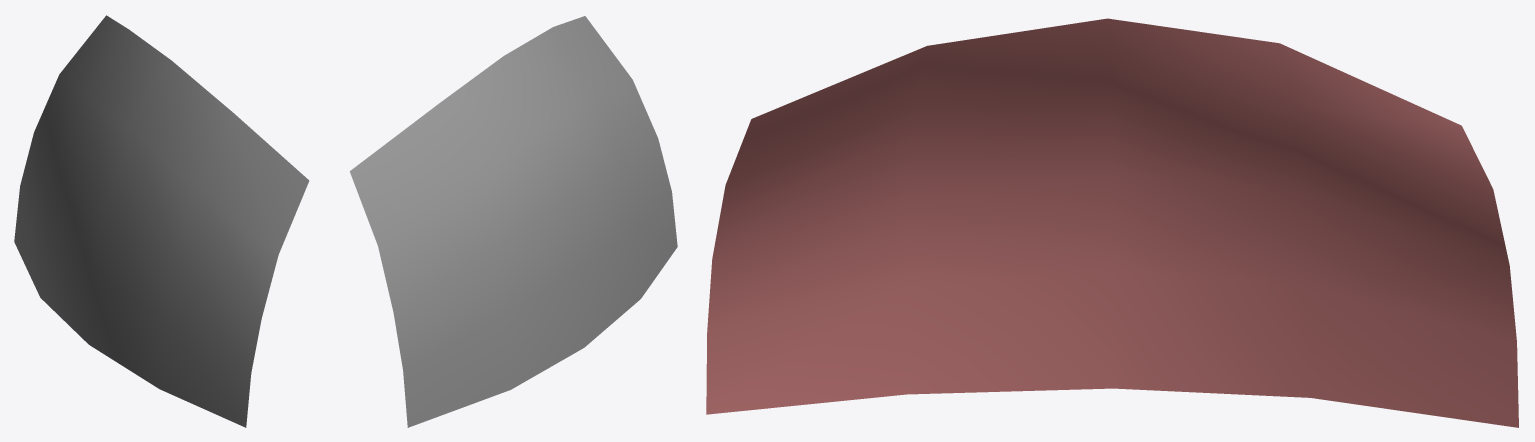
File: PM_Plain_OBJ_al_02.gltf
The picture shows the model from 3 angles, left to right: view 1: azimuth 30°, elevation 25°; view 2: azimuth 150°, elevation 25°; view 3: azimuth 270°, elevation 25°; orthographic projection. The views are drawn at different scales.
Parts seen in each view (by area): view 1: PM_Plain_OBJ_al_02; view 2: PM_Plain_OBJ_al_02; view 3: PM_Plain_OBJ_al_02.
Part boxes in pixels (bbox=[...]): PM_Plain_OBJ_al_02: bbox=[14, 15, 309, 427]; PM_Plain_OBJ_al_02: bbox=[349, 16, 677, 427]; PM_Plain_OBJ_al_02: bbox=[706, 18, 1518, 427].
Bounding box in the file's own units: 0.92 × 1.8 × 3.06.
